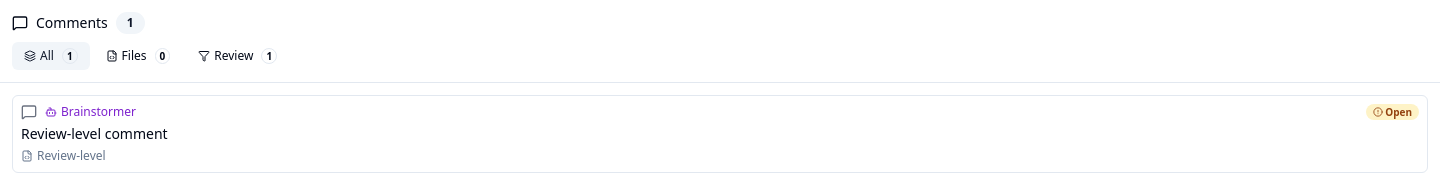
Scenario: CommentPanel › empty states › shows empty state when no file comments exist
Check: the text "Review-level comment" is shown, box [21,124,168,143]
# Switch to Files filter
Click the button with aria-label "files filter". click: coordinates (138, 56)
box: [94,42,182,70]
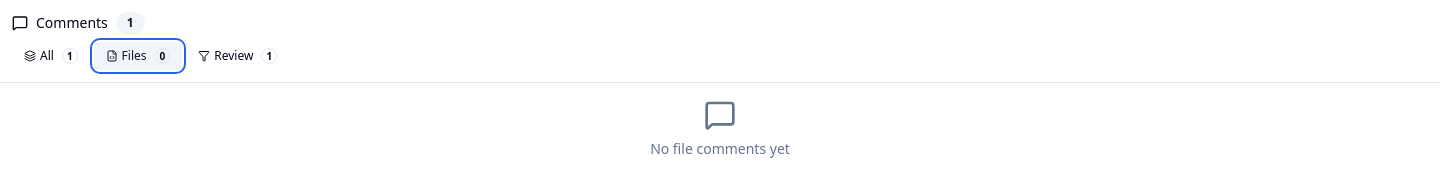
Check: the text "No file comments yet" is shown, box [650,139,790,159]
